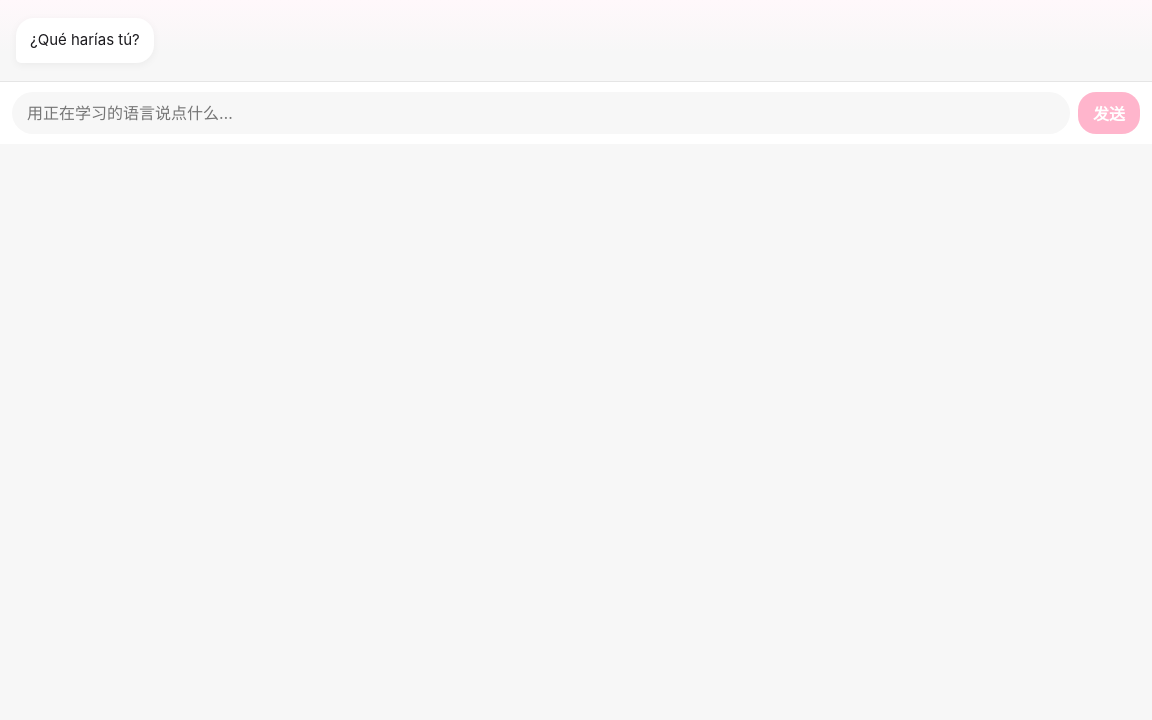
Test: Soul Mate MVP › opens the news-style translation popup when a chat word is tapped
The width and height of the screenshot is (1152, 720).
Click the text with class "message-word" showing "harías" at (93,40), box [71,30,114,49]
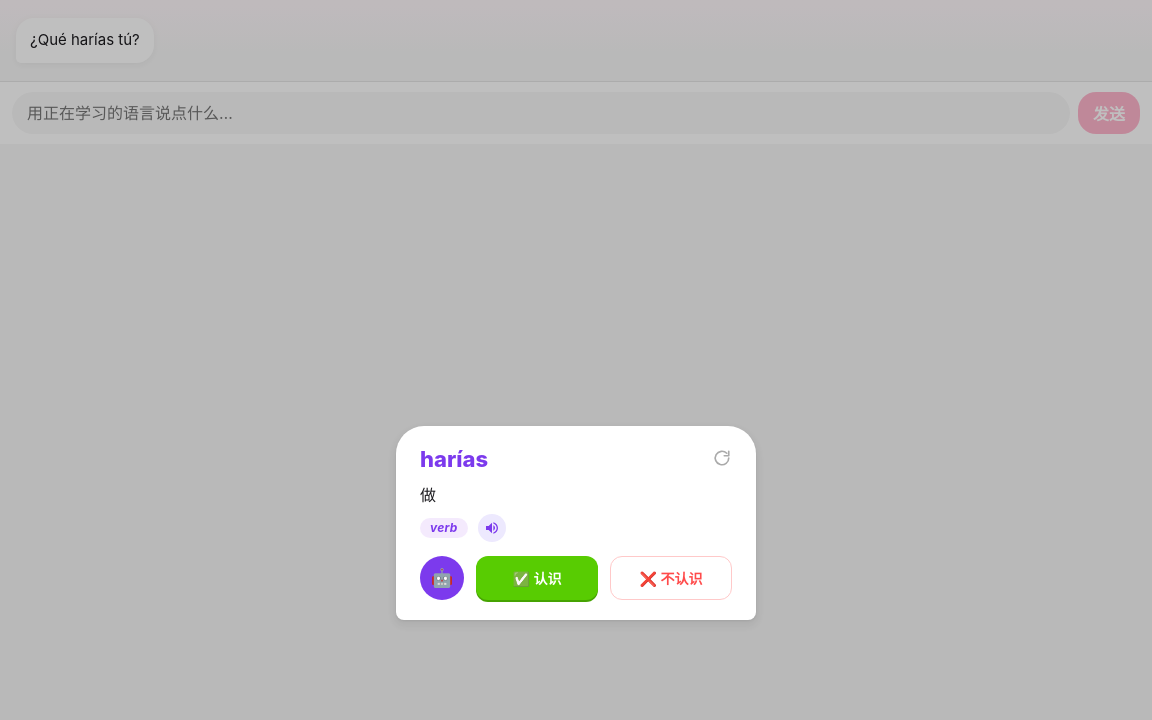
Now the element with class "word-popup" shows "做", box [420,485,436,505]
